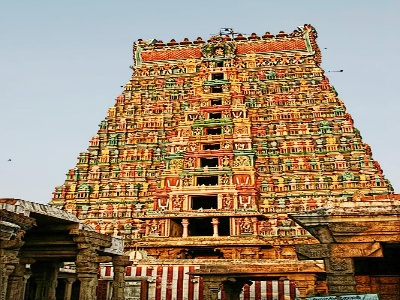gopura: (47, 32, 389, 237)
